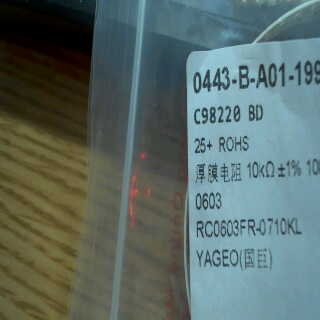10kR: (244, 154, 274, 182)
